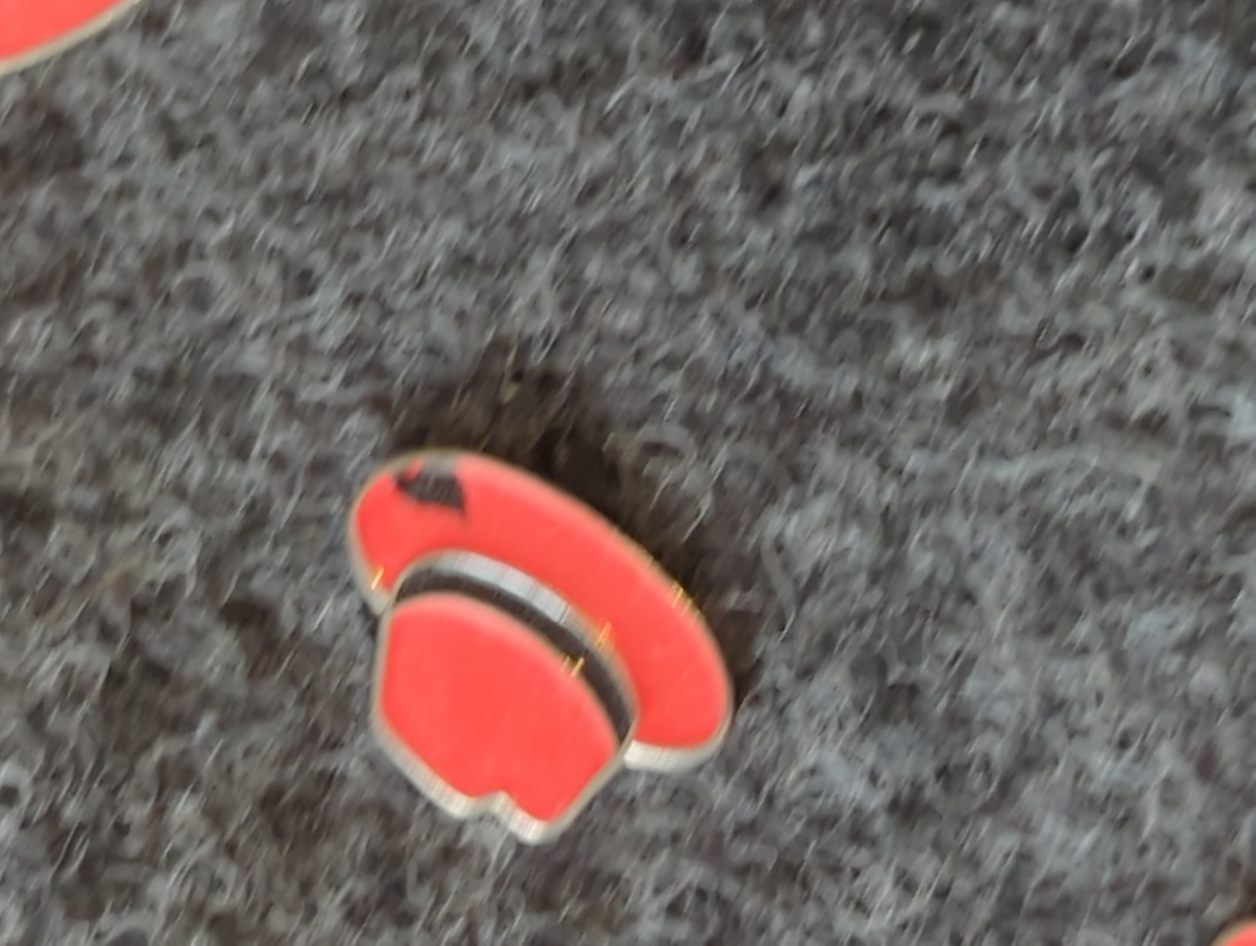Red-Hat: (272, 351, 800, 902)
Scratch: (363, 430, 510, 536)
